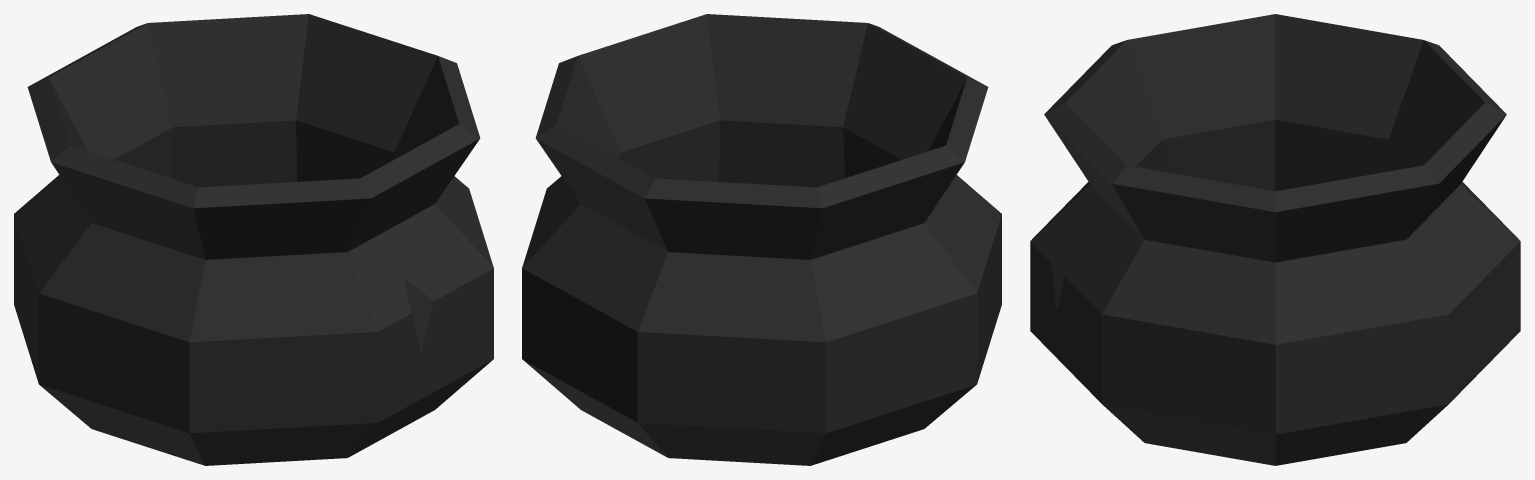
File: Couldron.fbx
3 views of the same model, side by side, from view 1: azimuth 30°, elevation 25°; view 2: azimuth 150°, elevation 25°; view 3: azimuth 270°, elevation 25° (orthographic).
Parts seen in each view (by area): view 1: Couldron; view 2: Couldron; view 3: Couldron.
Part boxes in pixels (left/top/right/bottom): Couldron: left=14, top=14, right=493, bottom=465; Couldron: left=522, top=14, right=1001, bottom=465; Couldron: left=1030, top=14, right=1520, bottom=465.
Bounding box in the file's own units: 1.07 × 1.07 × 0.685.
